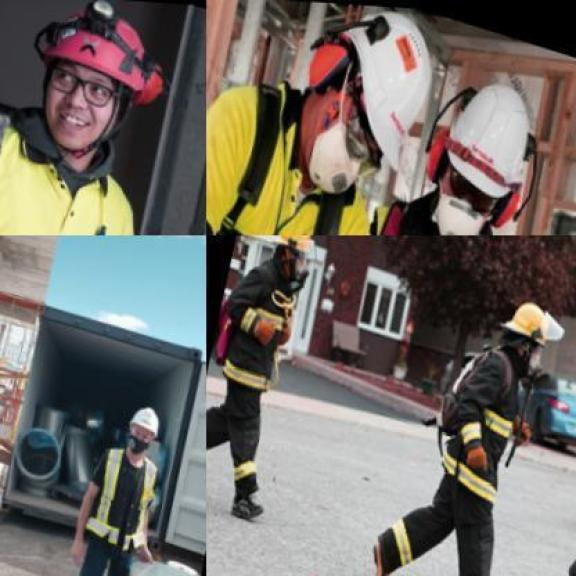safety_vest: (424, 338, 538, 498), (206, 253, 310, 401), (80, 432, 162, 547)
